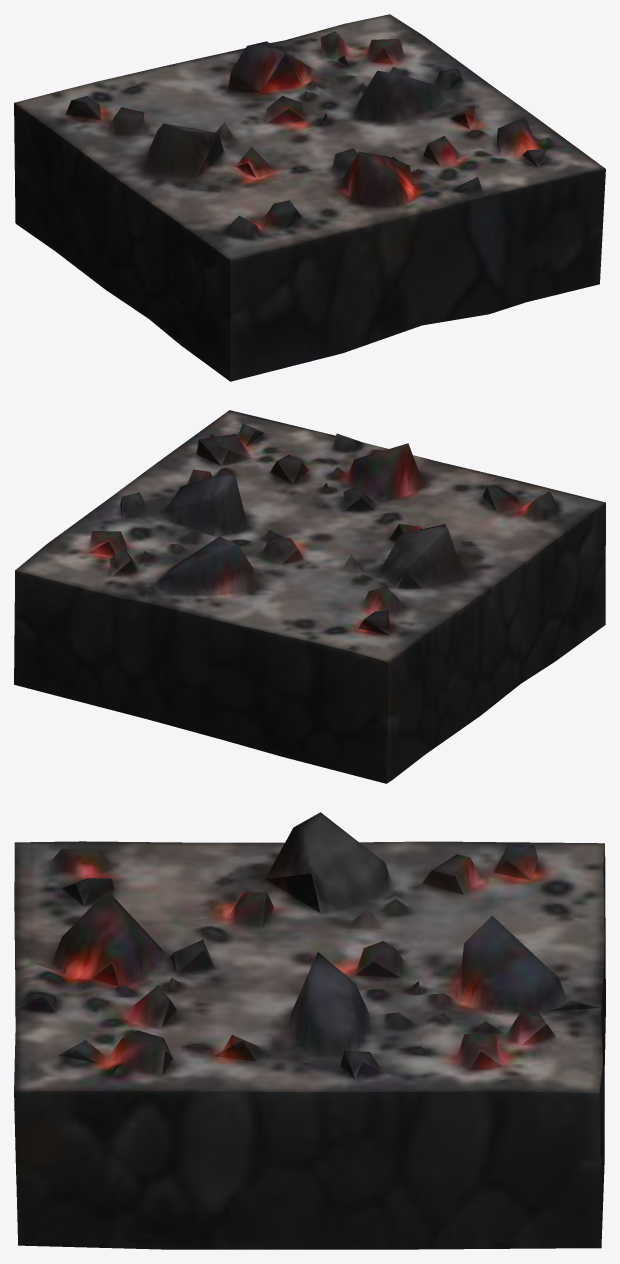
The model's file is b_braises_sol_2.glb.
The picture shows the model from 3 angles, top to bottom: view 1: azimuth 30°, elevation 25°; view 2: azimuth 150°, elevation 25°; view 3: azimuth 270°, elevation 25°; orthographic projection. The views are drawn at different scales.
Parts seen in each view (by area): view 1: geometry_0; view 2: geometry_0; view 3: geometry_0.
Part boxes in pixels (x1,y1,x2,y2): geometry_0: (14, 14, 605, 381); geometry_0: (14, 410, 605, 783); geometry_0: (14, 812, 605, 1249).
Bounding box in the file's own units: 1 × 0.4253 × 1.
1 material, 1 textured.
